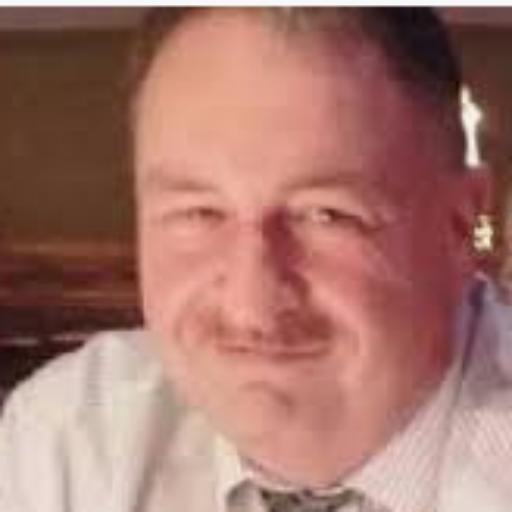left_eye: (292, 200, 370, 233)
left_lip_corner: (309, 341, 340, 364)
right_eye: (167, 199, 225, 226)
right_lip_corner: (208, 336, 234, 361)
